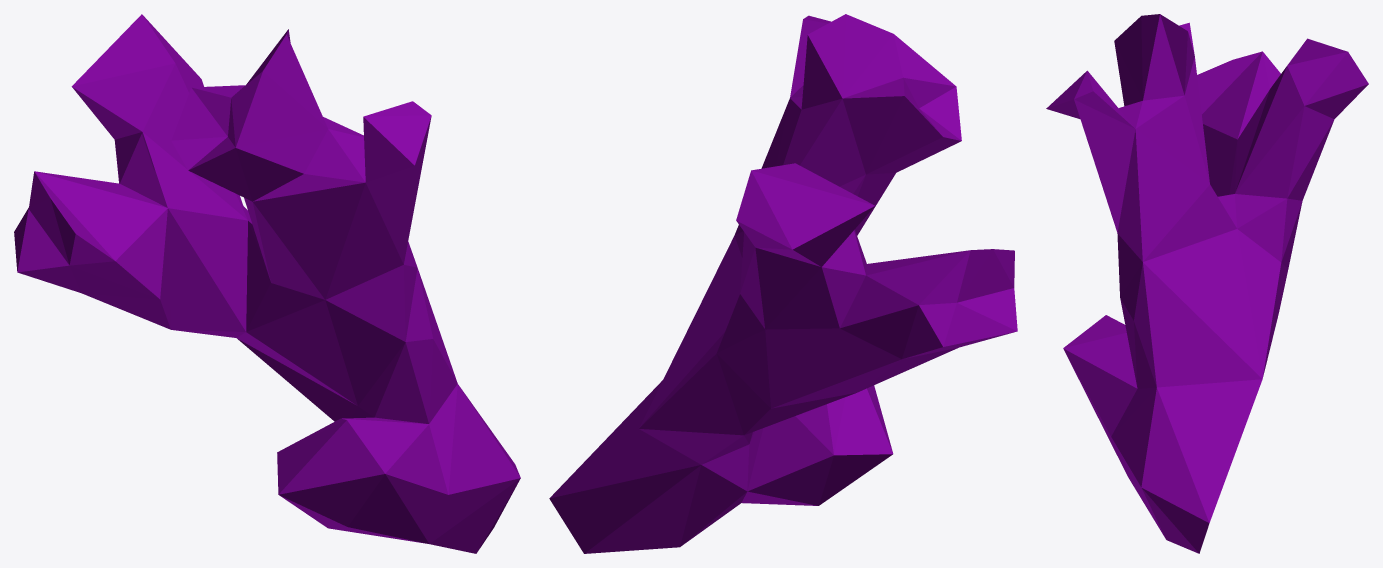
Rendered from my_mesh_Coral 9 Watertight Small.glb.
3 views of the same model, side by side, from view 1: azimuth 30°, elevation 25°; view 2: azimuth 150°, elevation 25°; view 3: azimuth 270°, elevation 25° (orthographic). The views are drawn at different scales.
Visible parts, largest first — view 1: Coral 9 Watertight Small; view 2: Coral 9 Watertight Small; view 3: Coral 9 Watertight Small.
Part boxes in pixels (x1=…): Coral 9 Watertight Small: x1=14, y1=14, x2=520, y2=553; Coral 9 Watertight Small: x1=549, y1=14, x2=1017, y2=553; Coral 9 Watertight Small: x1=1046, y1=14, x2=1368, y2=553.
Bounding box in the file's own units: 19.68 × 22.37 × 14.51.
Materials: 1 (1 with a texture image).
